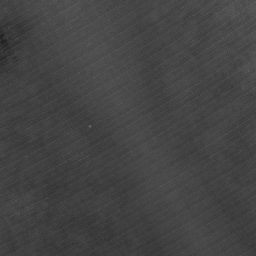Target: (86, 122, 93, 129)
